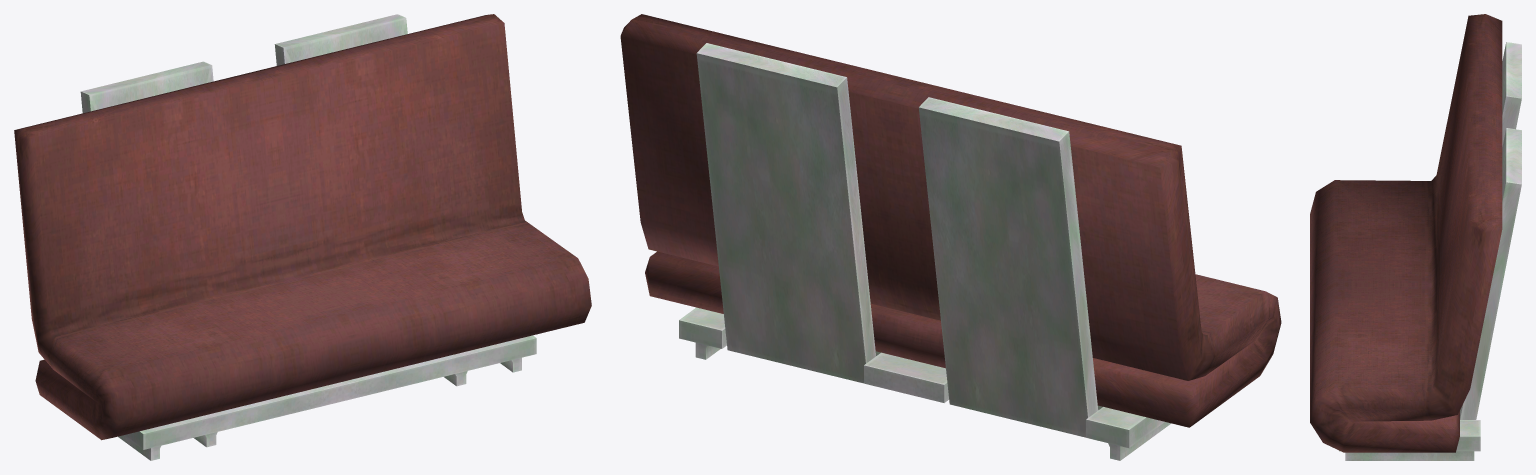
The model's file is frn_all_couch_futon_s1_l0.fbx.
The picture shows the model from 3 angles, left to right: view 1: azimuth 30°, elevation 25°; view 2: azimuth 150°, elevation 25°; view 3: azimuth 270°, elevation 25°; orthographic projection. The views are drawn at different scales.
Parts seen in each view (by area): view 1: mesh_node; view 2: mesh_node; view 3: mesh_node.
Part boxes in pixels (box(x1,y1,x2,y2)): mesh_node: box(14, 14, 591, 460); mesh_node: box(620, 14, 1281, 460); mesh_node: box(1310, 14, 1521, 460).
Size of the model in its own units: 2.05 by 1.19 by 0.8562.
